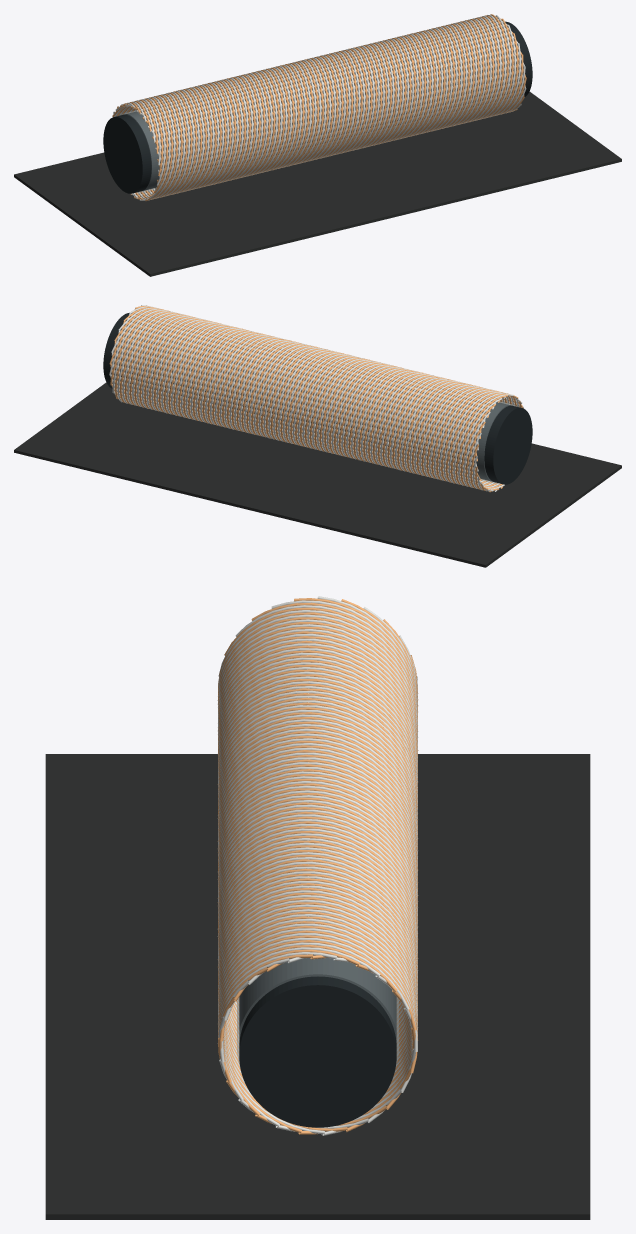
Rendered from braid-coverage-visual-library.glb.
3 views of the same model, one above another, from view 1: azimuth 30°, elevation 25°; view 2: azimuth 150°, elevation 25°; view 3: azimuth 270°, elevation 25° (orthographic). The views are drawn at different scales.
Visible parts, largest first — view 1: Soft reflective floor, Cable core under braid, Foil reference layer, Z_Direction_Carrier_20, Z_Direction_Carrier_18, Z_Direction_Carrier_25, Z_Direction_Carrier_16, Z_Direction_Carrier_22, Z_Direction_Carrier_24, Z_Direction_Carrier_19, Z_Direction_Carrier_23, Z_Direction_Carrier_17 (+43 smaller); view 2: Soft reflective floor, Cable core under braid, Foil reference layer, Z_Direction_Carrier_16, Z_Direction_Carrier_14, Z_Direction_Carrier_12, Z_Direction_Carrier_10, Z_Direction_Carrier_09, Z_Direction_Carrier_11, Z_Direction_Carrier_13, Z_Direction_Carrier_08, Z_Direction_Carrier_15 (+43 smaller); view 3: Soft reflective floor, Cable core under braid, Z_Direction_Carrier_19, Z_Direction_Carrier_15, Z_Direction_Carrier_14, Z_Direction_Carrier_20, Z_Direction_Carrier_13, Z_Direction_Carrier_17, Z_Direction_Carrier_18, Z_Direction_Carrier_16, Z_Direction_Carrier_12, Z_Direction_Carrier_11 (+17 smaller).
Boxes of the visible parts, bbox=[...] form: Soft reflective floor: bbox=[14, 91, 621, 276]; Cable core under braid: bbox=[103, 21, 532, 193]; Foil reference layer: bbox=[119, 31, 523, 192]; Z_Direction_Carrier_20: bbox=[131, 17, 496, 198]; Z_Direction_Carrier_18: bbox=[139, 18, 491, 200]; Z_Direction_Carrier_25: bbox=[145, 14, 508, 196]; Z_Direction_Carrier_16: bbox=[150, 19, 486, 198]; Z_Direction_Carrier_22: bbox=[137, 16, 501, 197]; Z_Direction_Carrier_24: bbox=[142, 15, 506, 196]; Z_Direction_Carrier_19: bbox=[134, 17, 494, 199]; Z_Direction_Carrier_23: bbox=[140, 15, 503, 197]; Z_Direction_Carrier_17: bbox=[145, 19, 489, 200]; Soft reflective floor: bbox=[14, 382, 621, 567]; Cable core under braid: bbox=[103, 313, 532, 484]; Foil reference layer: bbox=[111, 325, 516, 483]; Z_Direction_Carrier_16: bbox=[117, 312, 509, 479]; Z_Direction_Carrier_14: bbox=[122, 313, 514, 480]; Z_Direction_Carrier_12: bbox=[127, 314, 519, 481]; Z_Direction_Carrier_10: bbox=[132, 316, 522, 483]; Z_Direction_Carrier_09: bbox=[134, 316, 518, 483]; Z_Direction_Carrier_11: bbox=[129, 315, 523, 482]; Z_Direction_Carrier_13: bbox=[124, 314, 516, 481]; Z_Direction_Carrier_08: bbox=[137, 317, 513, 484]; Z_Direction_Carrier_15: bbox=[120, 313, 512, 480]; Soft reflective floor: bbox=[45, 754, 590, 1219]; Cable core under braid: bbox=[239, 958, 396, 1127]; Z_Direction_Carrier_19: bbox=[218, 626, 418, 1073]; Z_Direction_Carrier_15: bbox=[218, 617, 417, 1131]; Z_Direction_Carrier_14: bbox=[217, 614, 418, 1135]; Z_Direction_Carrier_20: bbox=[217, 629, 418, 1051]; Z_Direction_Carrier_13: bbox=[218, 612, 417, 1134]; Z_Direction_Carrier_17: bbox=[218, 622, 417, 1109]; Z_Direction_Carrier_18: bbox=[217, 624, 418, 1092]; Z_Direction_Carrier_16: bbox=[217, 619, 418, 1122]; Z_Direction_Carrier_12: bbox=[218, 610, 418, 1131]; Z_Direction_Carrier_11: bbox=[218, 607, 417, 1123].
Size of the model in its own units: 7.2 by 1.56 by 3.6.
